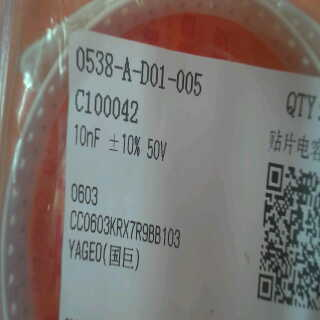10nF: (66, 120, 105, 158)
